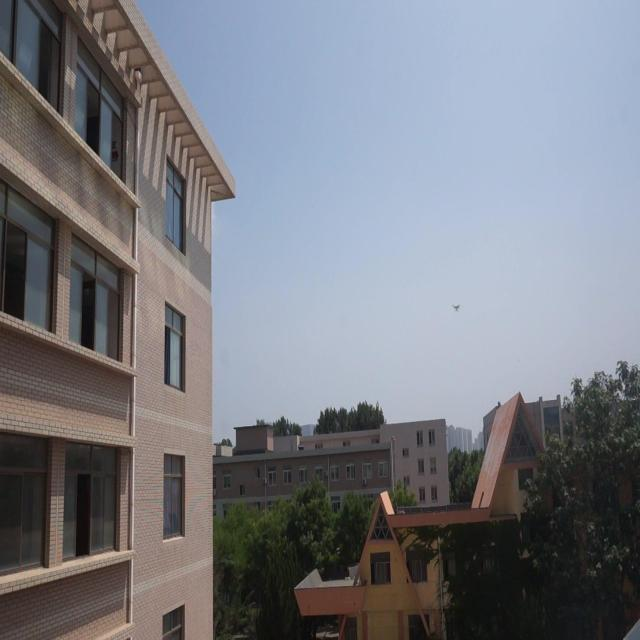drone: (451, 298, 462, 314)
